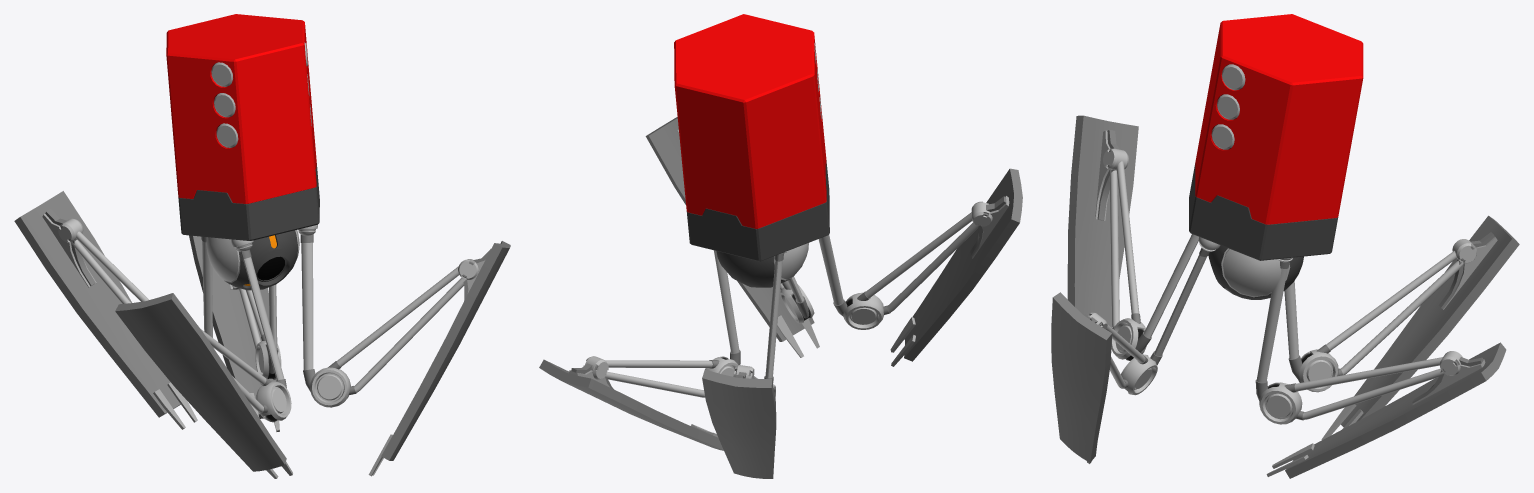
Rendered from MorotomoJamppose.fbx.
The picture shows the model from 3 angles, left to right: view 1: azimuth 30°, elevation 25°; view 2: azimuth 150°, elevation 25°; view 3: azimuth 270°, elevation 25°; orthographic projection. The views are drawn at different scales.
Visible parts, largest first — view 1: UpperBody, FootFR, FootBR, LowerBody, FootFL, FootBL, eye, UpperLegFL, KneesFL, LowerLegFL2, LowerLegFL1, UpperLegFR (+8 smaller); view 2: UpperBody, FootFR, FootBR, LowerBody, FootFL, FootBL, eye, KneesFR, LowerLegFR1, UpperLegBR, LowerLegFR2, UpperLegBL (+5 smaller); view 3: UpperBody, FootFR, FootFL, FootBR, LowerBody, FootBL, eye, UpperLegBL, LowerLegBR1, KneesBL, LowerLegFR1, LowerLegBR2 (+13 smaller).
Boxes of the visible parts, left/top/right/bottom form: UpperBody: left=166, top=14, right=316, bottom=203; FootFR: left=115, top=293, right=292, bottom=478; FootBR: left=14, top=191, right=197, bottom=429; LowerBody: left=178, top=163, right=319, bottom=240; FootFL: left=368, top=241, right=510, bottom=476; FootBL: left=189, top=235, right=279, bottom=431; eye: left=206, top=230, right=299, bottom=290; UpperLegFL: left=300, top=234, right=315, bottom=391; KneesFL: left=310, top=367, right=350, bottom=407; LowerLegFL2: left=348, top=277, right=465, bottom=395; LowerLegFL1: left=328, top=266, right=459, bottom=369; UpperLegFR: left=240, top=249, right=286, bottom=387; UpperBody: left=674, top=14, right=826, bottom=228; FootFR: left=890, top=168, right=1022, bottom=366; FootBR: left=702, top=369, right=776, bottom=478; LowerBody: left=686, top=160, right=829, bottom=261; FootFL: left=645, top=117, right=819, bottom=357; FootBL: left=539, top=359, right=723, bottom=450; eye: left=716, top=243, right=808, bottom=287; KneesFR: left=843, top=292, right=883, bottom=329; LowerLegFR1: left=857, top=212, right=971, bottom=300; UpperLegBR: left=764, top=253, right=783, bottom=383; LowerLegFR2: left=883, top=222, right=979, bottom=314; UpperLegBL: left=714, top=250, right=740, bottom=364; UpperBody: left=1195, top=14, right=1363, bottom=224; FootFR: left=1067, top=115, right=1138, bottom=327; FootFL: left=1051, top=292, right=1112, bottom=463; FootBR: left=1321, top=215, right=1519, bottom=439; LowerBody: left=1189, top=163, right=1338, bottom=260; FootBL: left=1266, top=342, right=1506, bottom=478; eye: left=1208, top=245, right=1303, bottom=299; UpperLegBL: left=1255, top=261, right=1289, bottom=401; LowerLegBR1: left=1316, top=251, right=1456, bottom=353; KneesBL: left=1259, top=382, right=1302, bottom=424; LowerLegFR1: left=1116, top=161, right=1140, bottom=323; LowerLegBR2: left=1338, top=260, right=1463, bottom=375.
Bounding box in the file's own units: 0.0414 × 0.0419 × 0.0421.
